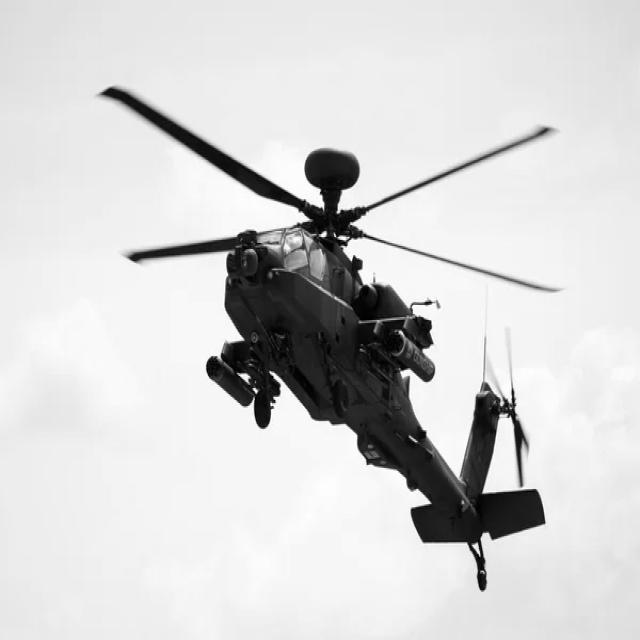Helicopter: (101, 86, 559, 591)
